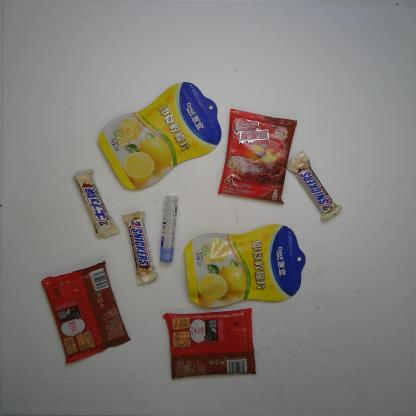Chocolate: (286, 150, 342, 222), (73, 169, 120, 241), (122, 210, 158, 286)
Dessert: (40, 261, 131, 365), (218, 107, 298, 204), (164, 306, 257, 380)
Dried Fruit: (97, 80, 223, 192), (183, 223, 307, 308)
Stationery: (158, 195, 178, 263)
